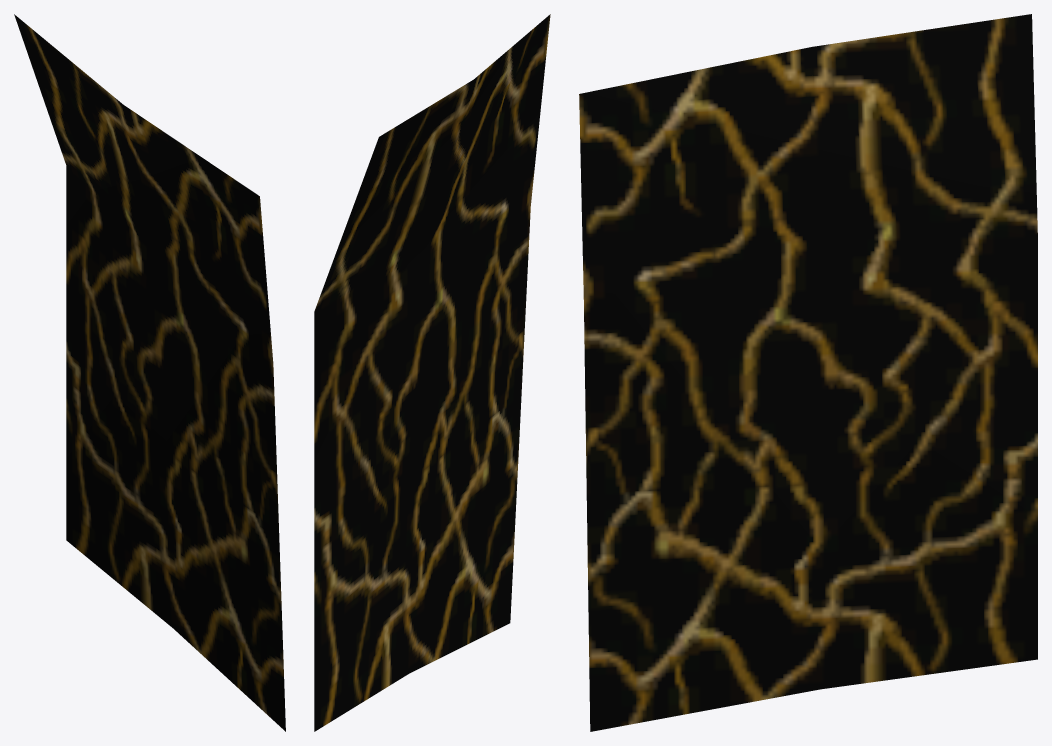
Rendered from OVERHILL_A_01_VINE_CLIMB.fbx.
The picture shows the model from 3 angles, left to right: view 1: azimuth 30°, elevation 25°; view 2: azimuth 150°, elevation 25°; view 3: azimuth 270°, elevation 25°; orthographic projection. The views are drawn at different scales.
Visible parts, largest first — view 1: OVERHILL_A_01_VINE_CLIMB; view 2: OVERHILL_A_01_VINE_CLIMB; view 3: OVERHILL_A_01_VINE_CLIMB.
Part boxes in pixels (left/top/right/bottom): OVERHILL_A_01_VINE_CLIMB: left=14, top=14, right=285, bottom=731; OVERHILL_A_01_VINE_CLIMB: left=314, top=14, right=550, bottom=731; OVERHILL_A_01_VINE_CLIMB: left=579, top=14, right=1037, bottom=731.
Size of the model in its own units: 4258 by 31230 by 19233.
1 material, 1 textured.
